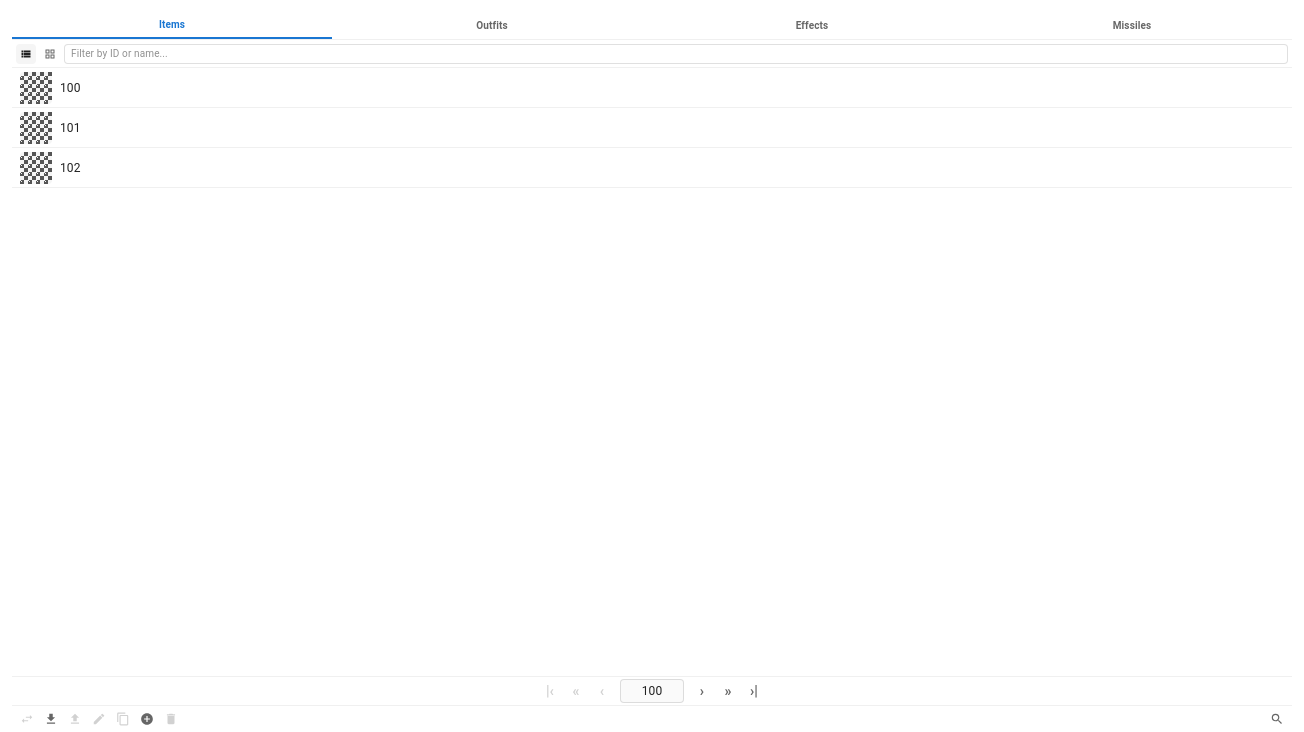
Test: ThingListPanel › category tabs › switches category when tab is clicked
The width and height of the screenshot is (1304, 732).
Check: the element with test id "thing-list-item-100" is shown, box x1=12 y1=68 x2=1292 y2=108
Check: the element with test id "thing-list-item-102" is shown, box x1=12 y1=148 x2=1292 y2=188
// Switch to outfits (2 outfits starting at ID 1)
Click the button with test id "category-tab-outfit" at [492, 26], box x1=332 y1=12 x2=652 y2=39
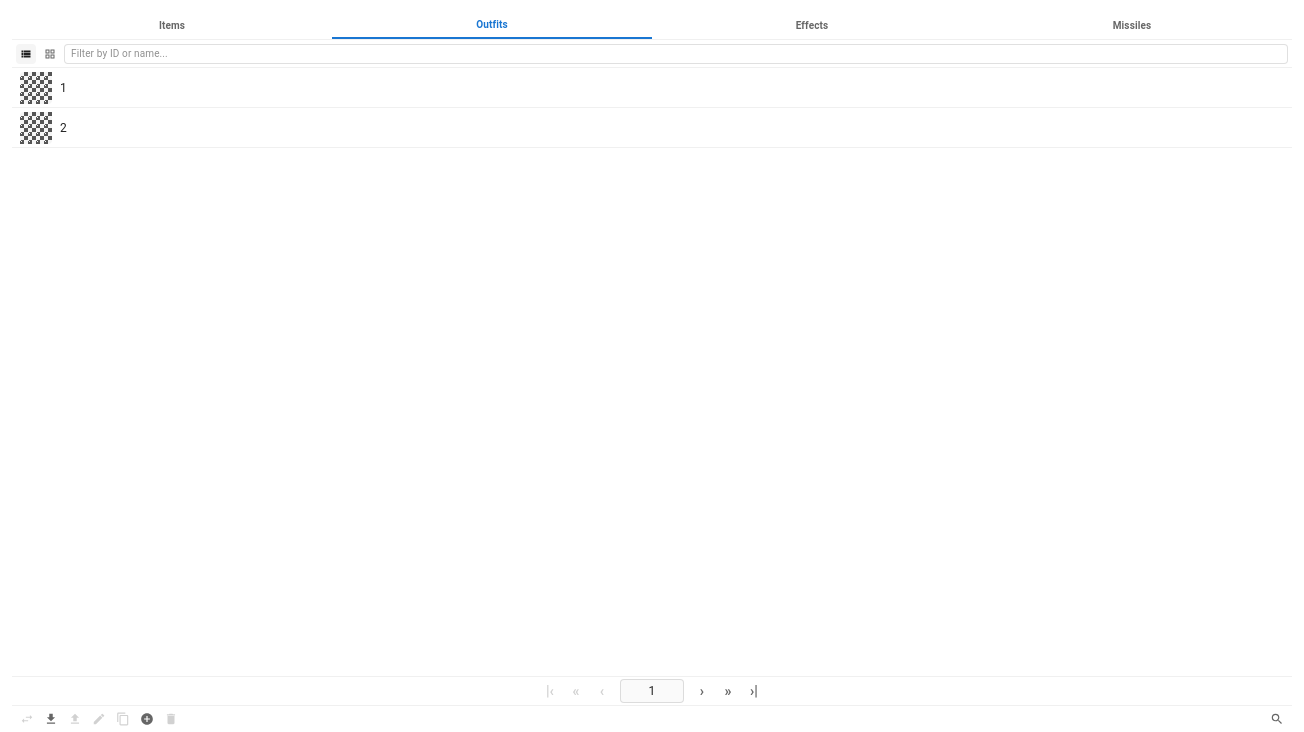
Check: the element with test id "thing-list-item-1" is shown, box x1=12 y1=68 x2=1292 y2=108
Check: the element with test id "thing-list-item-100" is gone
